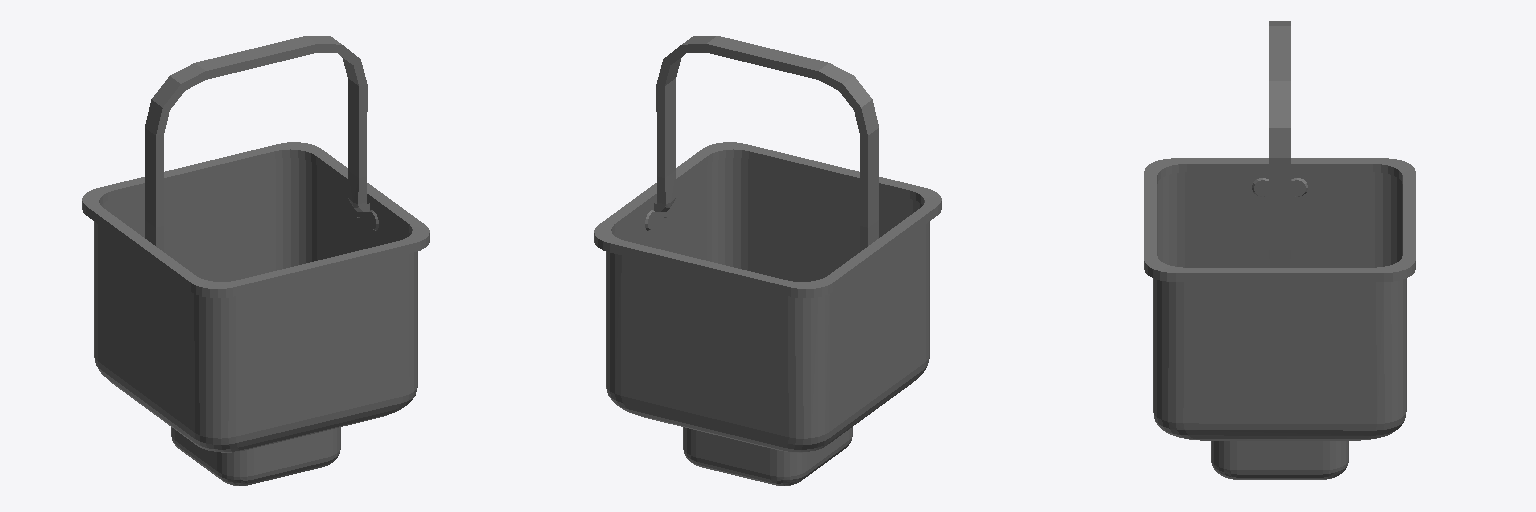
Rendered from Bucket final.obj.
3 views of the same model, side by side, from view 1: azimuth 30°, elevation 25°; view 2: azimuth 150°, elevation 25°; view 3: azimuth 270°, elevation 25° (orthographic).
Parts seen in each view (by area): view 1: Bucket; view 2: Bucket; view 3: Bucket.
Part boxes in pixels (left/top/right/bottom): Bucket: left=82, top=36, right=429, bottom=485; Bucket: left=594, top=36, right=941, bottom=485; Bucket: left=1144, top=21, right=1415, bottom=479.
Bounding box in the file's own units: 0.1239 × 0.2039 × 0.1239.